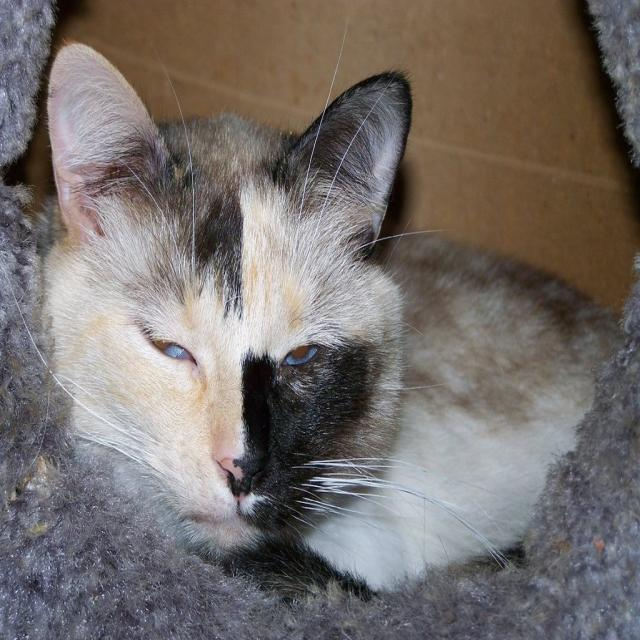Cat: (2, 16, 602, 587)
